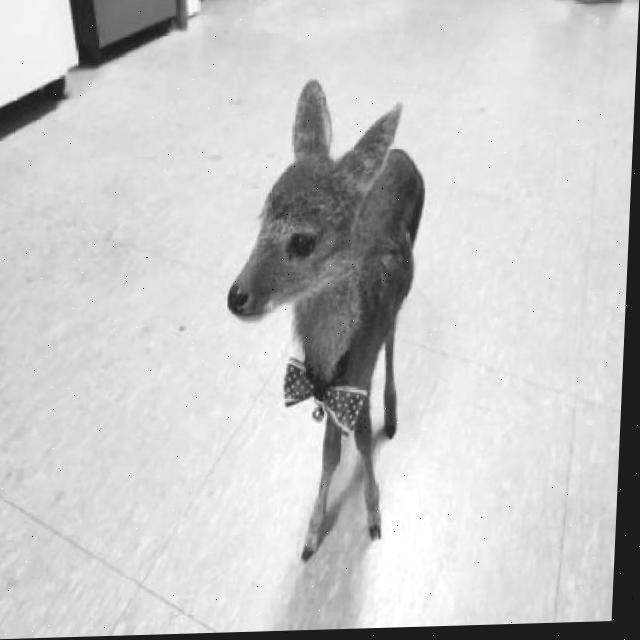Deer: (213, 56, 449, 602)
